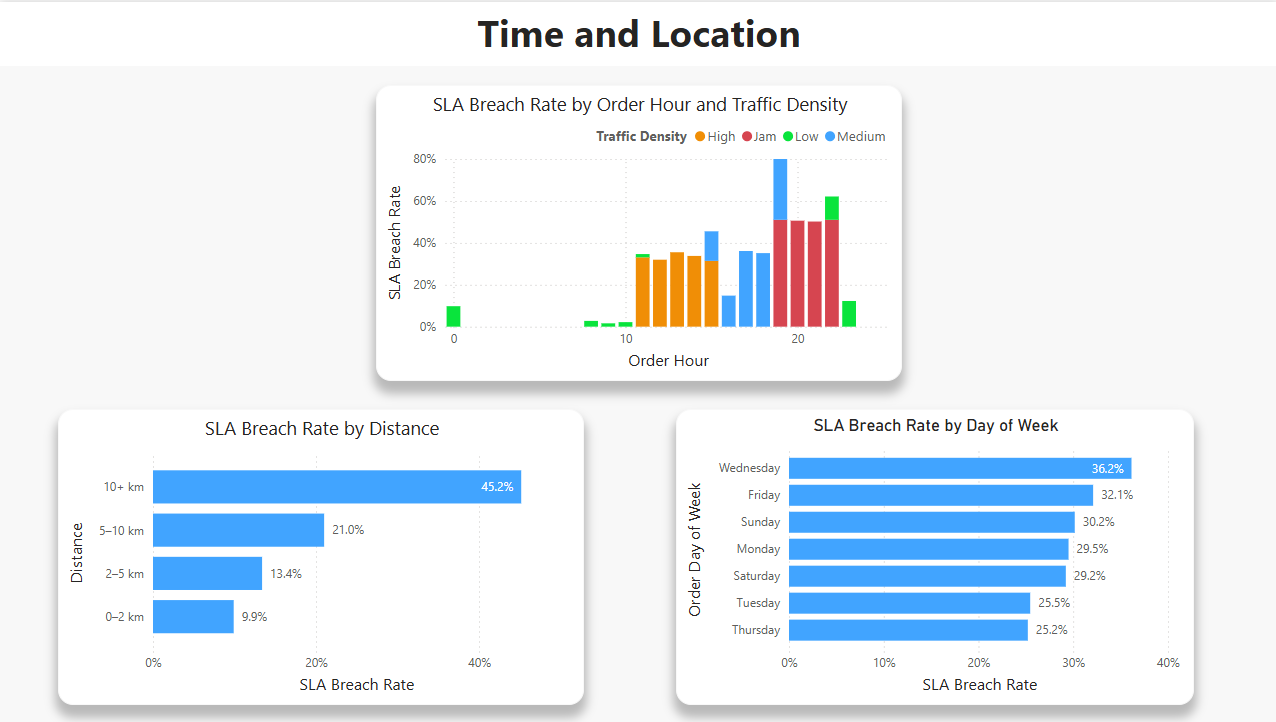

The page's visual inventory and layout, read from the dashboard file:
{"tool":"powerbi","page":{"name":"Time & Location","canvas":[1280,720],"ordinal":3},"visuals":[{"type":"textbox","box":[0,0,1280,64],"z":0},{"type":"clusteredBarChart","title":"SLA Breach Rate by Day of Week","fields":{"Category":["orders_clean.order_day_of_week"],"Y":["orders_clean.SLA Breach Rate"]},"box":[677,407,518,296],"z":1000},{"type":"columnChart","title":"SLA Breach Rate by Order Hour and Traffic Density","fields":{"Y":["orders_clean.SLA Breach Rate"],"Series":["orders_clean.traffic_density"],"Category":["orders_clean.order_hour"]},"box":[377,83,526,296],"z":2000},{"type":"clusteredBarChart","title":"SLA Breach Rate by Distance","fields":{"Y":["orders_clean.SLA Breach Rate"],"Category":["orders_clean.distance_bucket"]},"box":[59,407,526,296],"z":3000}]}

Visuals, with their boxes in screenshot pixels (x1, y1, x2, y2), scaled from the page's 1280x720 canvas onto the 1276x722 screenshot:
textbox: bbox=(0, 0, 1275, 64)
"SLA Breach Rate by Day of Week" clusteredBarChart: bbox=(675, 408, 1191, 705)
"SLA Breach Rate by Order Hour and Traffic Density" columnChart: bbox=(376, 83, 900, 380)
"SLA Breach Rate by Distance" clusteredBarChart: bbox=(59, 408, 583, 705)
